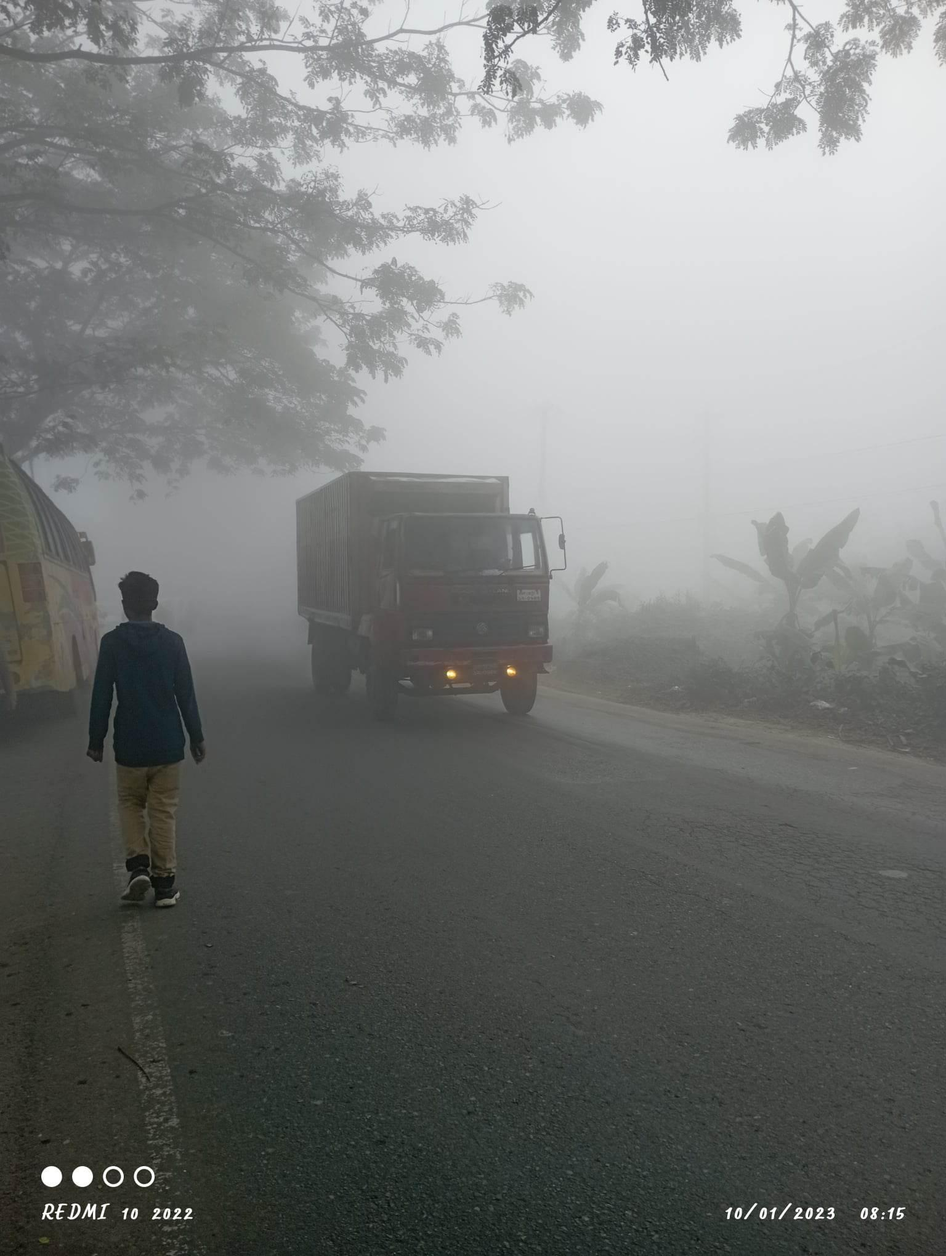Bus: (5, 445, 129, 734)
Truck: (251, 446, 583, 727)
